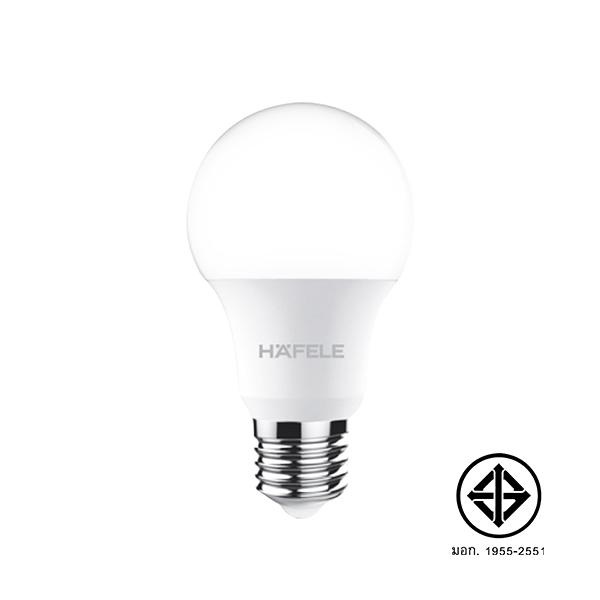Light_bulb: (178, 92, 419, 535)
